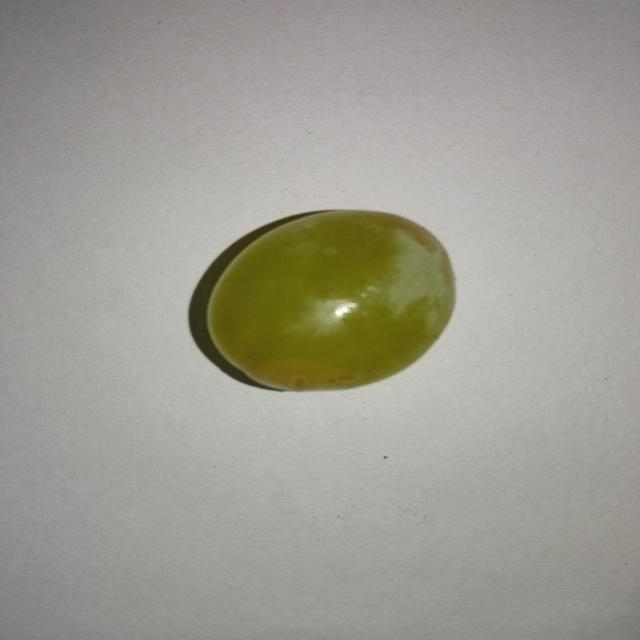fresh_grape: (198, 206, 459, 394)
